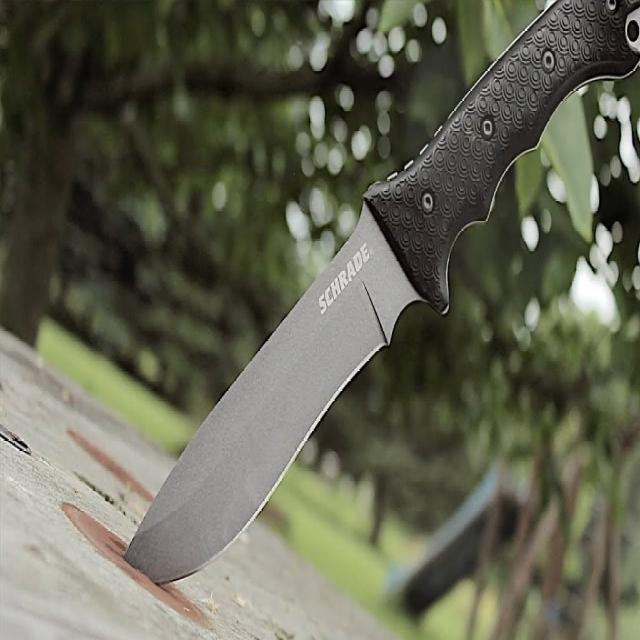knife: (120, 1, 640, 600)
